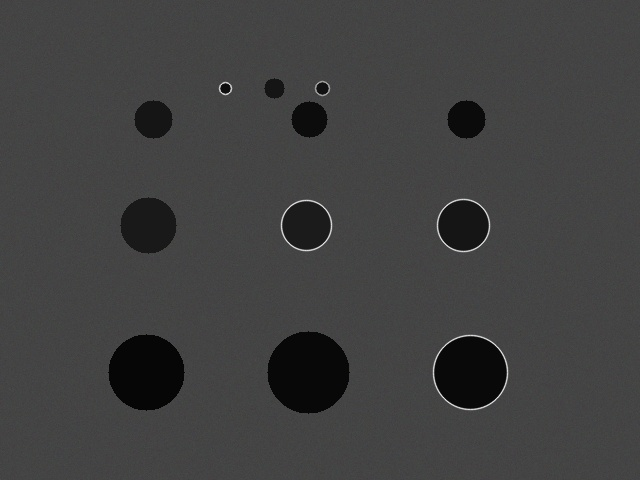hole: (267, 331, 349, 413), (108, 334, 184, 410), (433, 335, 507, 409), (120, 197, 176, 253), (437, 199, 489, 251), (281, 200, 331, 250), (134, 100, 172, 138), (447, 100, 485, 138), (291, 101, 327, 137), (264, 78, 284, 98), (315, 81, 329, 95), (219, 82, 231, 94)
